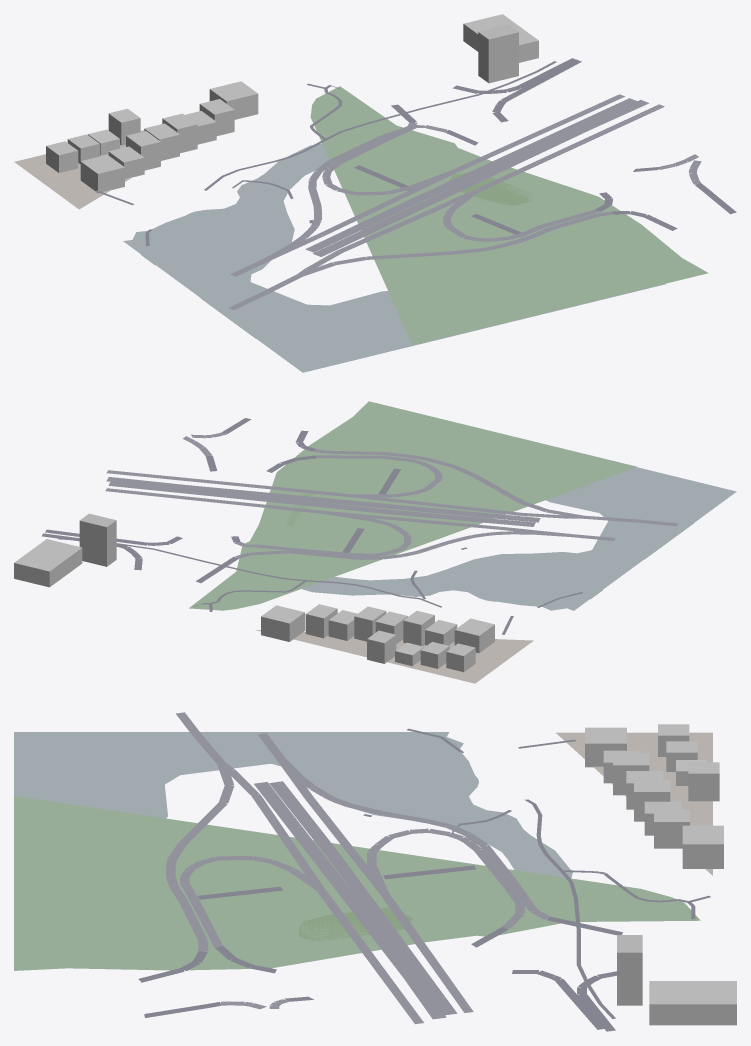
The model's file is 115_81_mid.glb.
3 renders of one model, top to bottom at view 1: azimuth 30°, elevation 25°; view 2: azimuth 150°, elevation 25°; view 3: azimuth 270°, elevation 25°, orthographic. The views are drawn at different scales.
Bounding box in the file's own units: 532 × 43.43 × 517.
